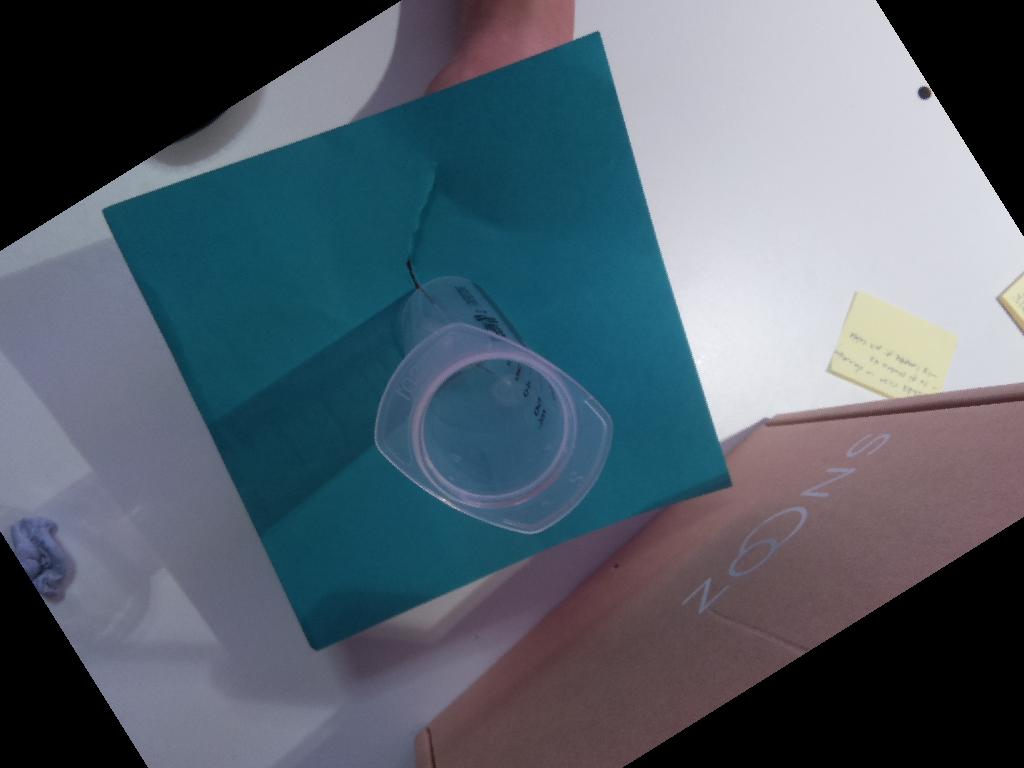clean: (372, 319, 614, 535)
